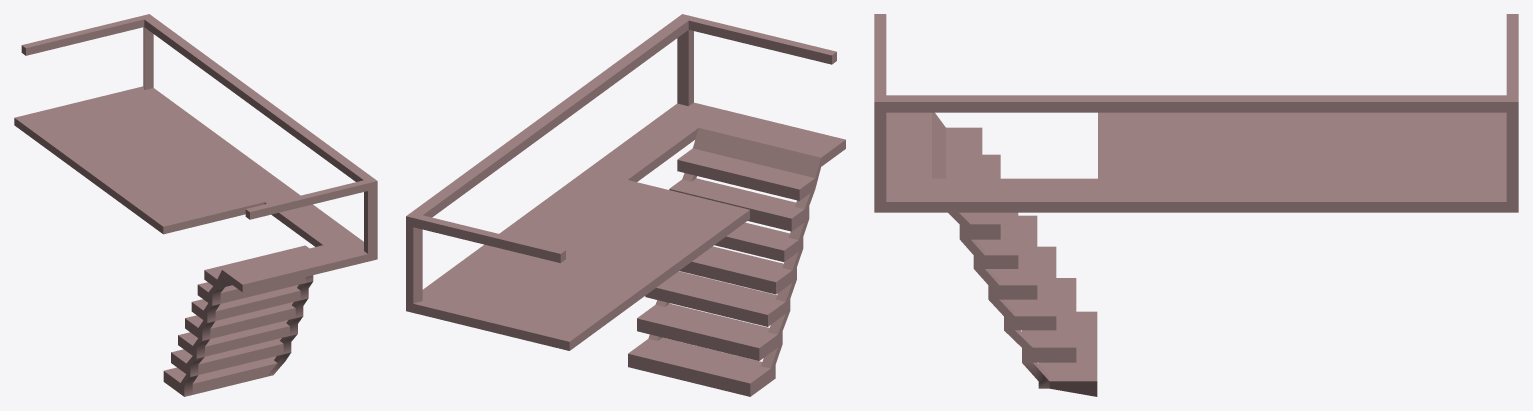
The model's file is Container_Stairs_3.fbx.
3 renders of one model, left to right at view 1: azimuth 30°, elevation 25°; view 2: azimuth 150°, elevation 25°; view 3: azimuth 270°, elevation 25°, orthographic. The views are drawn at different scales.
Parts seen in each view (by area): view 1: pasted__pasted___pCube57; view 2: pasted__pasted___pCube57; view 3: pasted__pasted___pCube57.
Part boxes in pixels (x1=…): pasted__pasted___pCube57: x1=14, y1=14, x2=377, y2=396; pasted__pasted___pCube57: x1=406, y1=14, x2=845, y2=396; pasted__pasted___pCube57: x1=874, y1=14, x2=1518, y2=396.
Bounding box in the file's own units: 2.31 × 3.68 × 6.74.
